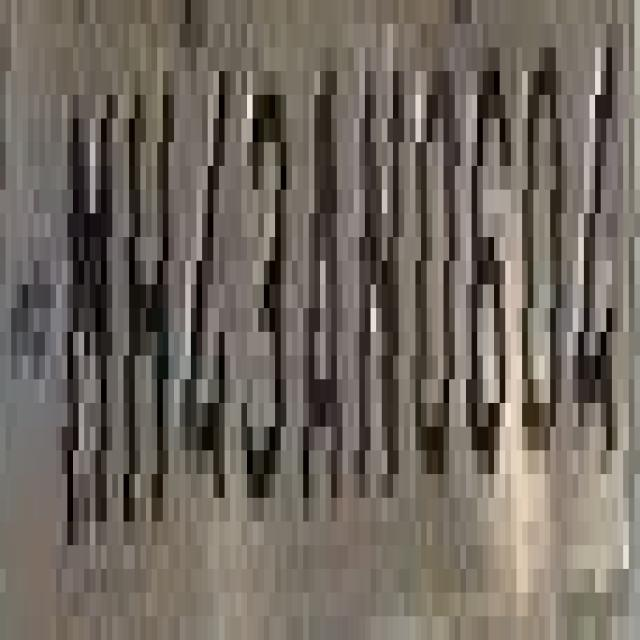license_plate: (0, 47, 612, 640)
